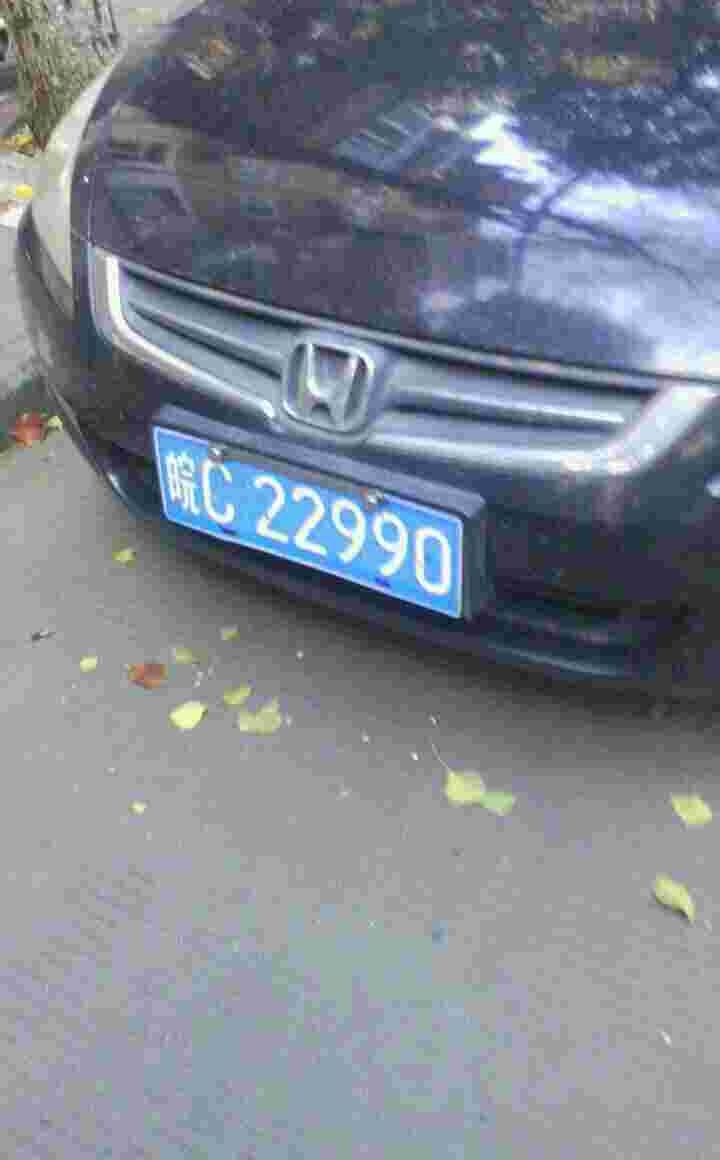license_plate: (158, 431, 471, 616)
